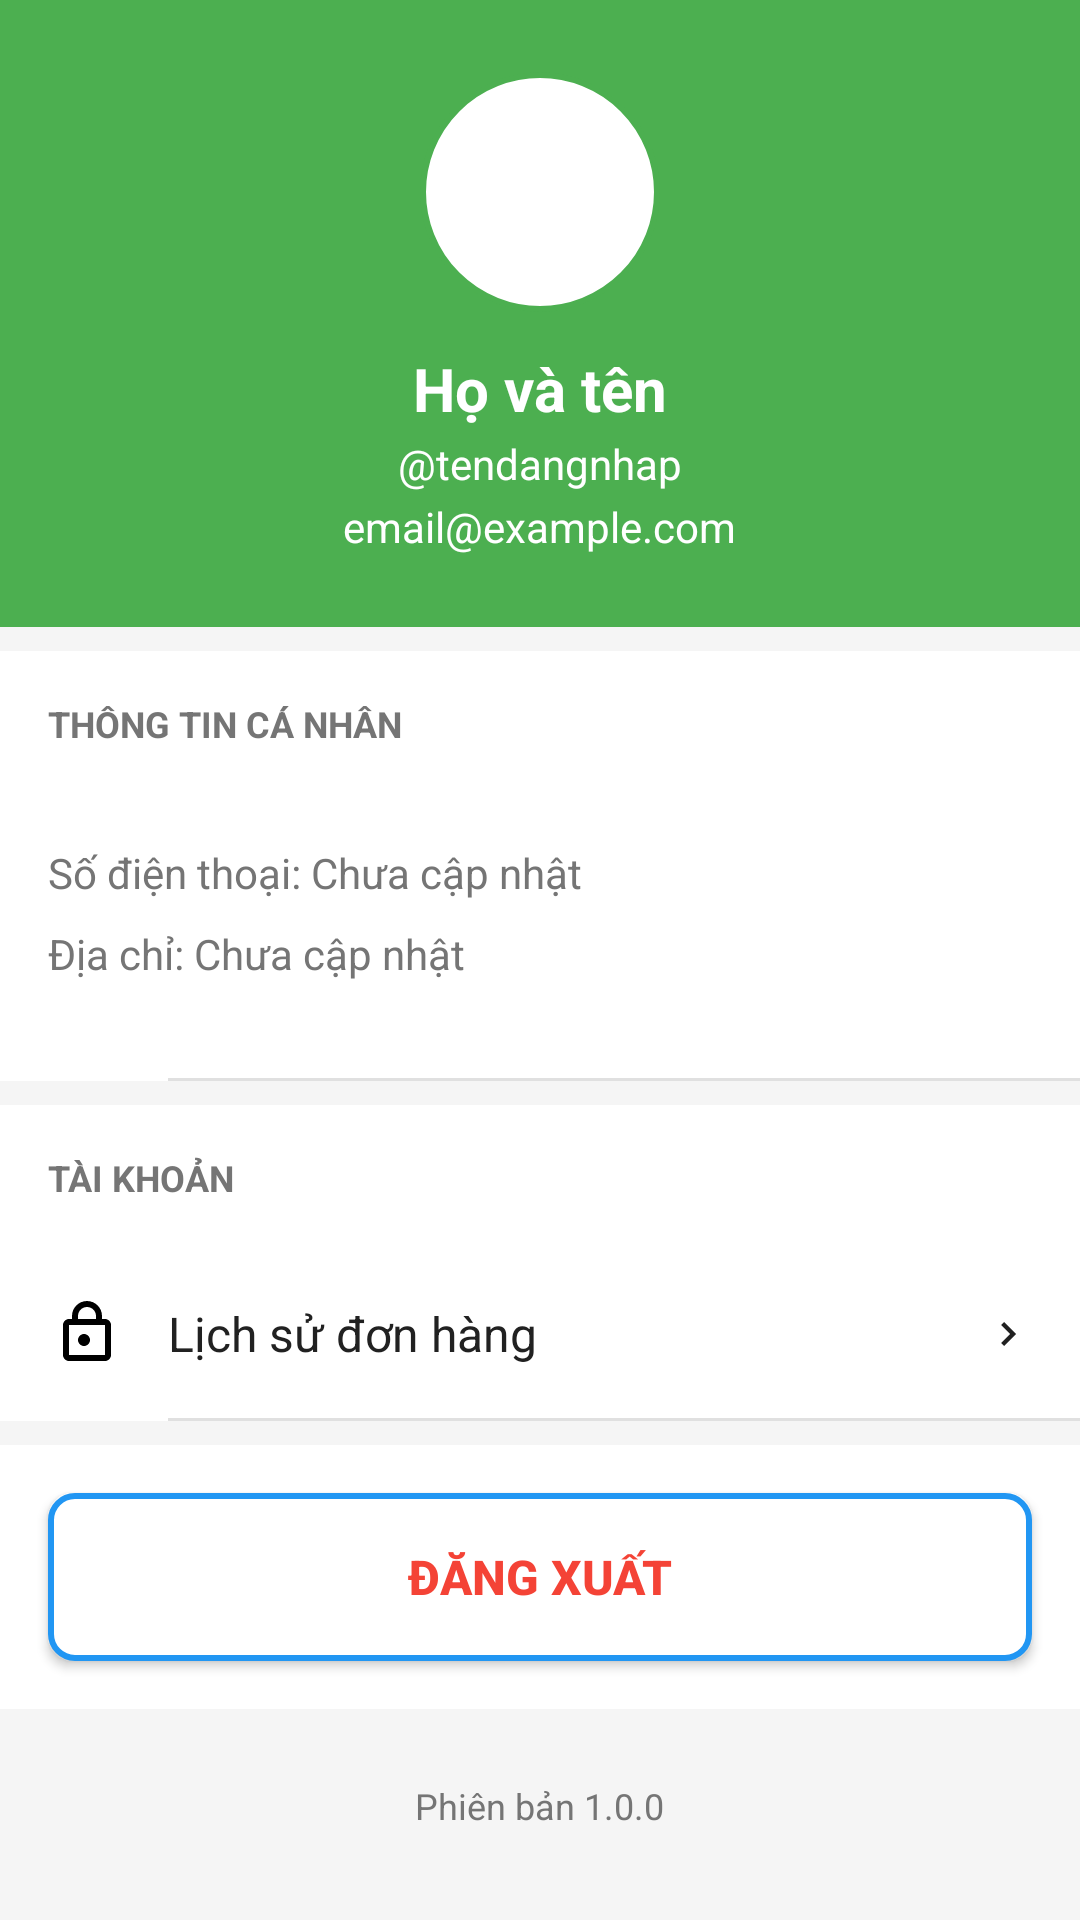

Point at icon controls on the screen. Image size 1080px×1920px, points as point (x, y).
Xem chi tiết: point (1008, 1334)
